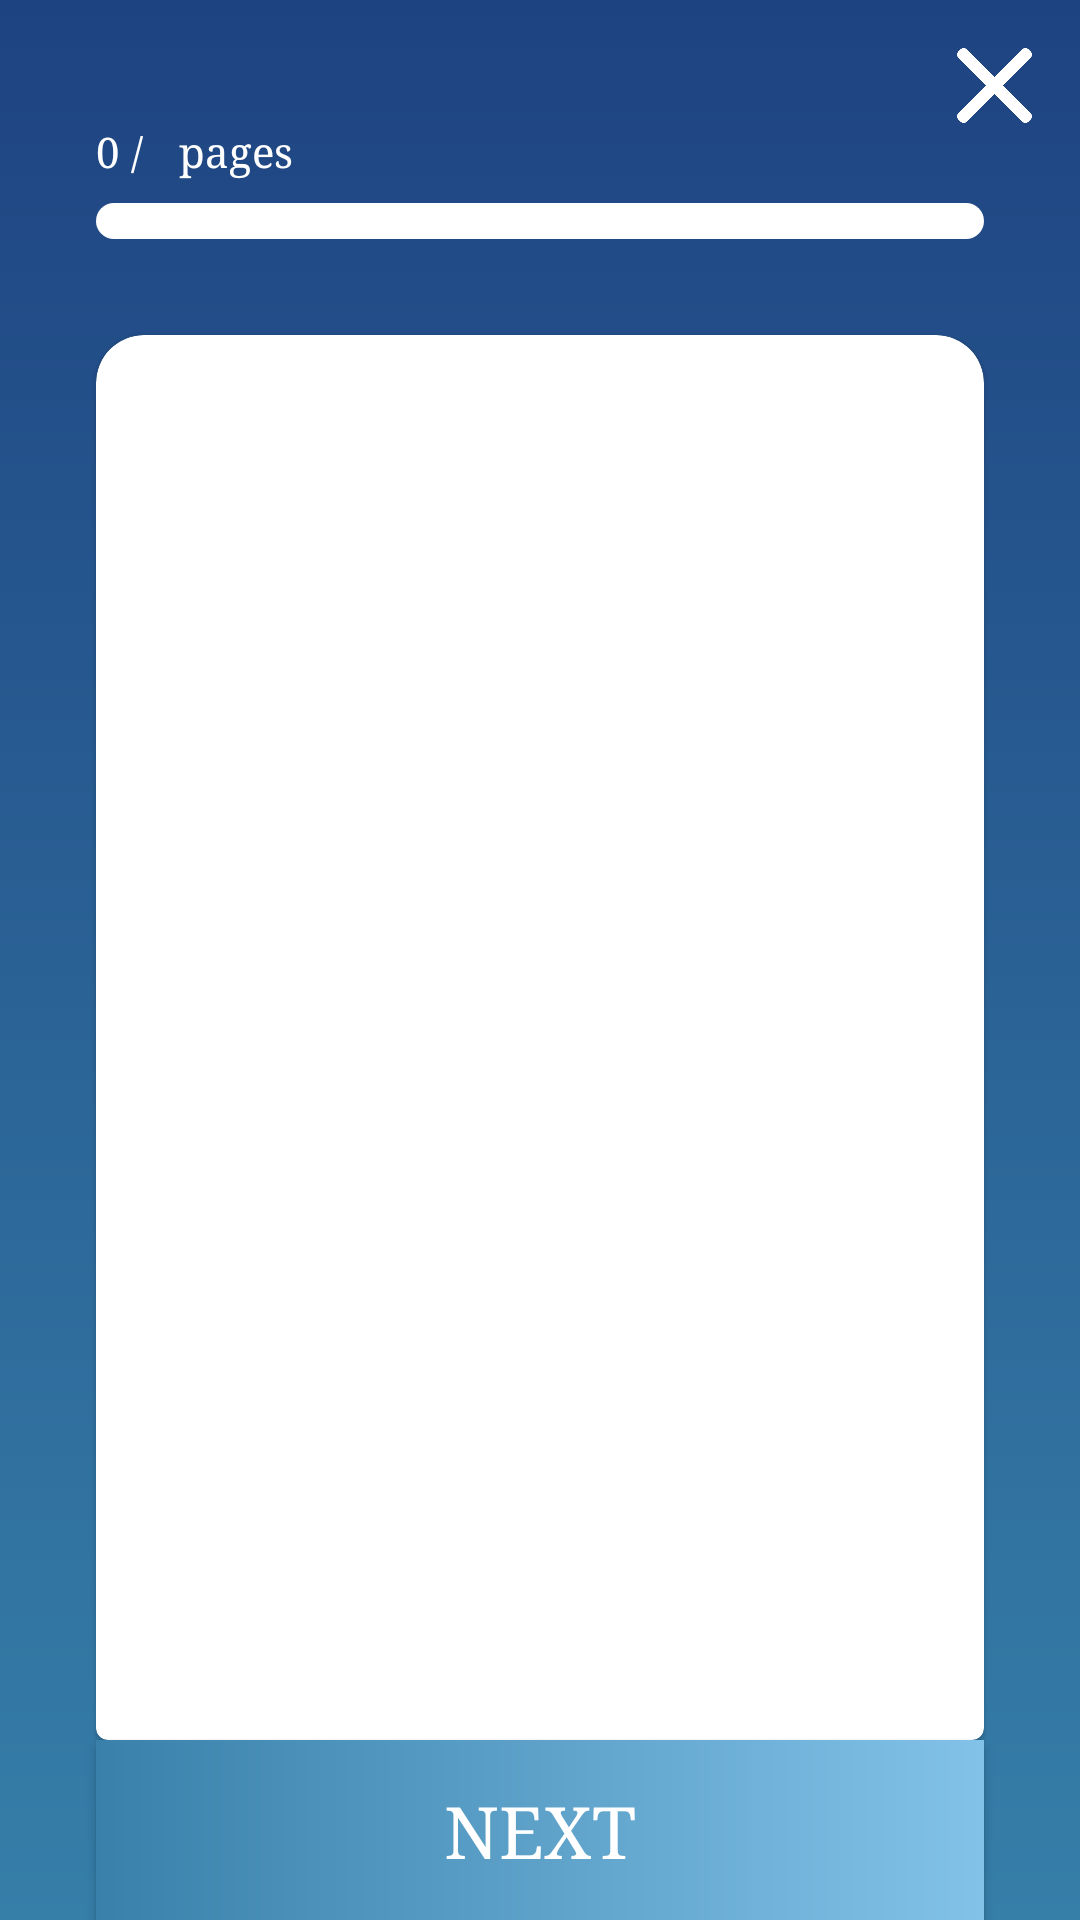

Icon click points for this 1080 x 1920 phone screenshot, format (x=x, y=y):
close: (x=994, y=85)
